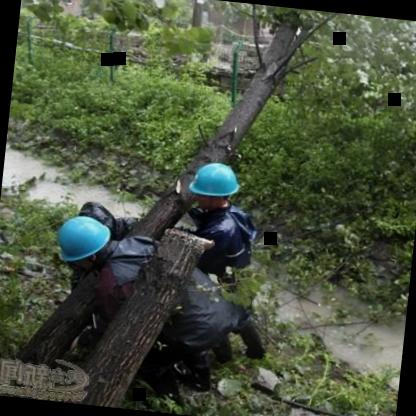helmet: (49, 207, 119, 276), (185, 158, 246, 213)
